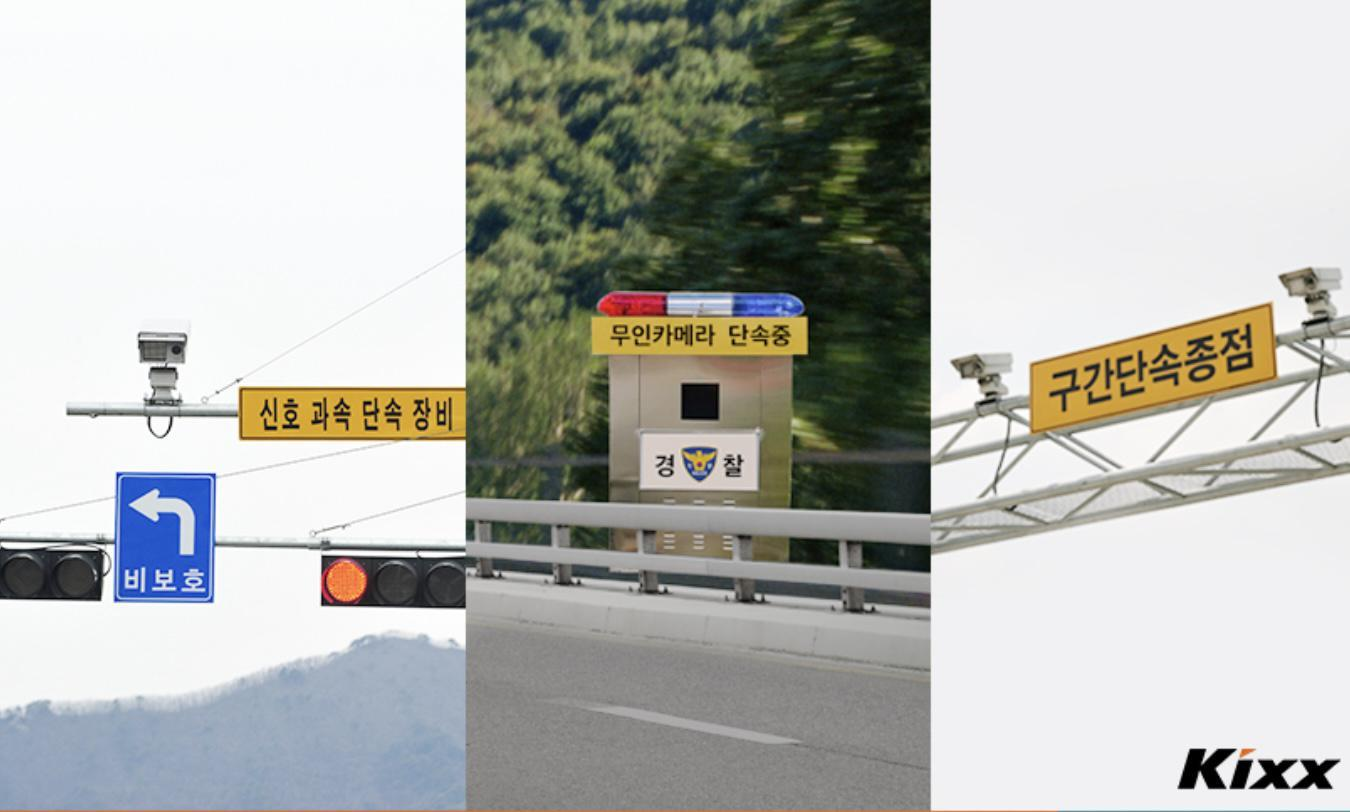Monitor: (136, 316, 201, 415), (948, 336, 1027, 415), (1276, 261, 1350, 340)
